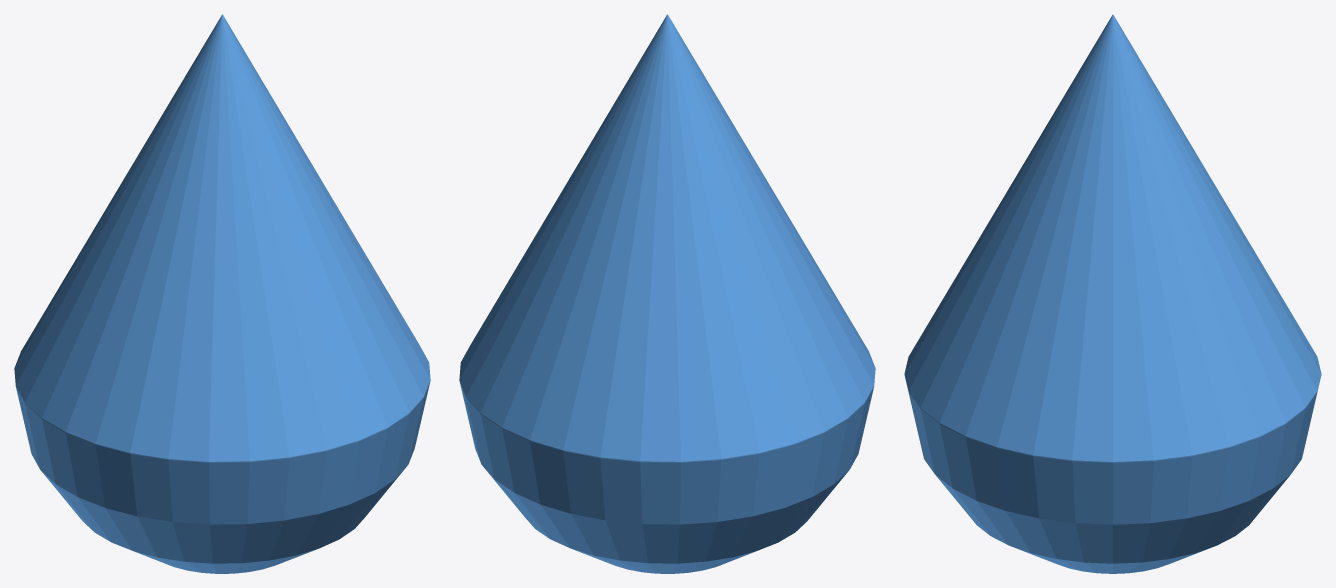
File: water.glb
3 renders of one model, left to right at view 1: azimuth 30°, elevation 25°; view 2: azimuth 150°, elevation 25°; view 3: azimuth 270°, elevation 25°, orthographic.
Parts seen in each view (by area): view 1: Cone; view 2: Cone; view 3: Cone.
Boxes of the visible parts, x1,y1,x2,y2 form: Cone: [14, 14, 430, 573]; Cone: [459, 14, 875, 573]; Cone: [904, 14, 1321, 573].
Bounding box in the file's own units: 3.5 × 5 × 3.5.
